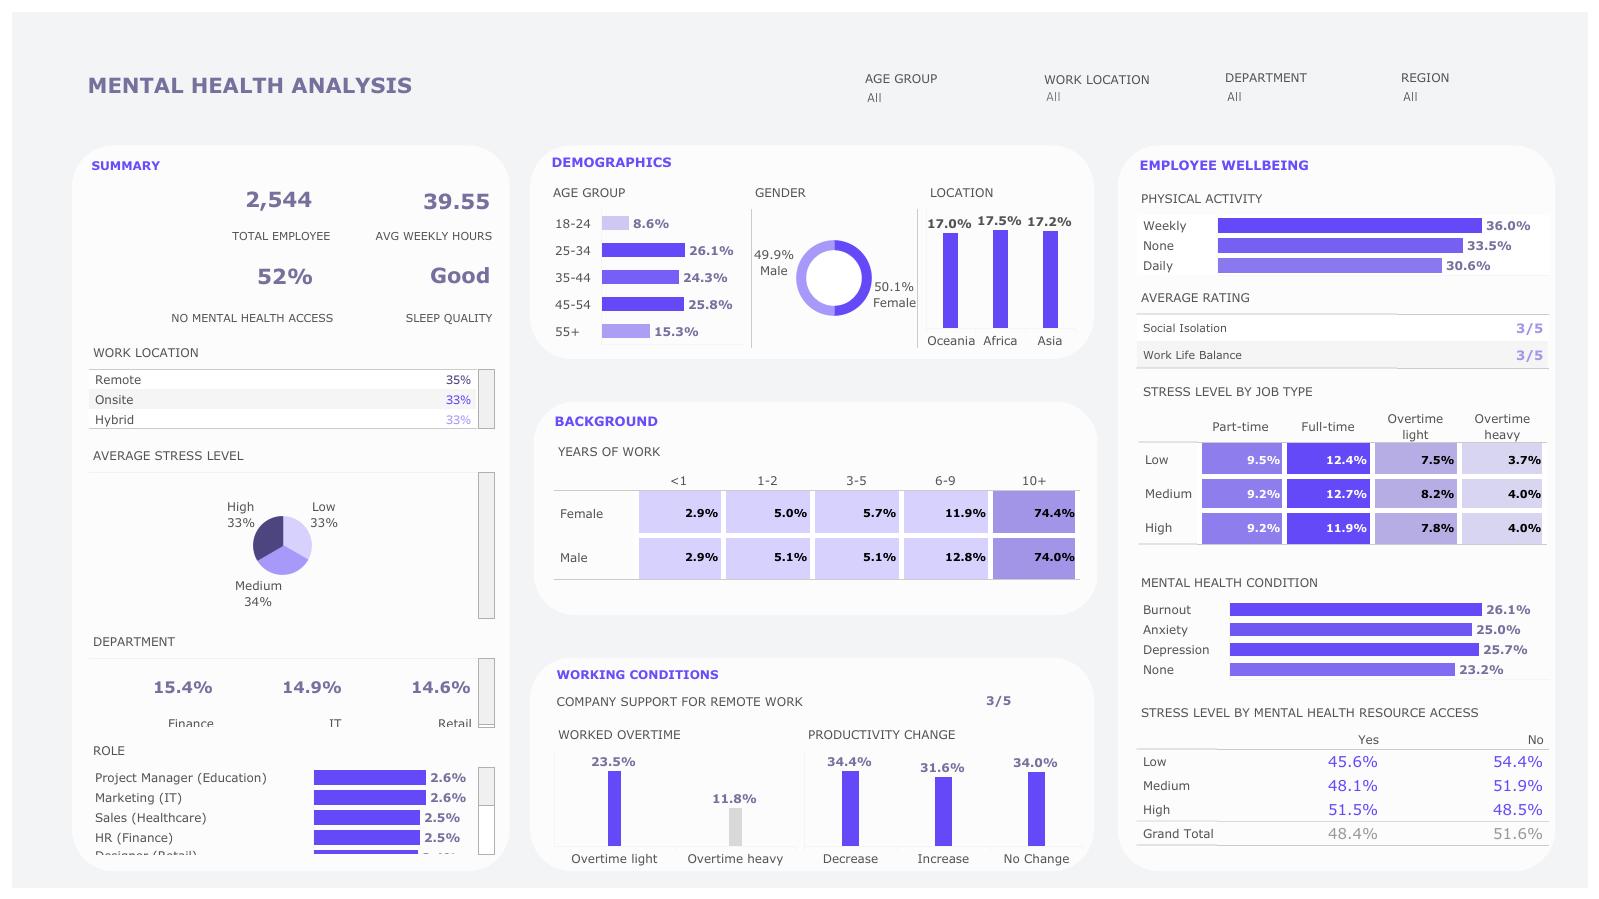

This screenshot's page, from the dashboard's own definition file:
{"tool":"tableau","page":{"name":"Dashboard","canvas":[1600,900],"ordinal":0},"visuals":[{"type":"image","param":"Image/BACK2.png","box":[8,8,1584,884]},{"type":"filter","title":"DEPARTMENT","param":"[federated.0maekqe0reld2u16mzw711kn9f0x].[none:Industry:nk]","box":[1225,68,160,44]},{"type":"filter","title":"LOCATION","param":"[federated.0maekqe0reld2u16mzw711kn9f0x].[none:Region:nk]","box":[1401,68,157,44]},{"type":"text","box":[85,69,330,30]},{"type":"filter","title":"AGE GROUP","param":"[federated.0maekqe0reld2u16mzw711kn9f0x].[none:Calculation_466967025510387713:nk","box":[865,69,160,44]},{"type":"filter","title":"WORK LOCATION","param":"[federated.0maekqe0reld2u16mzw711kn9f0x].[none:Work_Location:nk]","box":[1044,70,160,42]},{"type":"text","box":[1133,148,420,32]},{"type":"text","box":[85,149,414,32]},{"type":"text","box":[545,149,534,24]},{"type":"worksheet","title":"AGE GROUP","mark":"Automatic","rows":["Calculation_466967025510387713"],"cols":["Employee_ID"],"box":[545,173,202,173]},{"type":"worksheet","title":"GENDER","mark":"Pie","rows":["Calculation_466967025522483202","Calculation_466967025522483202"],"box":[747,173,175,177]},{"type":"worksheet","title":"LOCATION","mark":"Automatic","rows":["Employee_ID"],"cols":["Region"],"box":[922,173,157,177]},{"type":"worksheet","title":"PHYSICAL ACTIVITY","mark":"Automatic","rows":["Physical_Activity"],"cols":["Employee_ID"],"box":[1133,180,420,98]},{"type":"worksheet","title":"TOTAL EMPLOYEE","mark":"Automatic","box":[85,181,236,39]},{"type":"worksheet","title":"AVG HOURS PER WEEK","mark":"Automatic","box":[321,181,178,39]},{"type":"text","box":[85,220,252,30]},{"type":"text","box":[337,220,162,30]},{"type":"worksheet","title":"ACCESS TO MENTAL HEALTH RESOURCES","mark":"Automatic","box":[85,250,237,52]},{"type":"worksheet","title":"SLEEP QUALITY","mark":"Automatic","box":[322,250,177,52]},{"type":"worksheet","title":"AVERAGE RATING","mark":"Automatic","box":[1133,278,420,94]},{"type":"text","box":[85,302,255,30]},{"type":"text","box":[340,302,159,30]},{"type":"worksheet","title":"WORK LOCATION","mark":"Automatic","rows":["Work_Location"],"box":[85,334,414,99]},{"type":"worksheet","title":"STRESS LEVEL BY JOB TYPE","mark":"Square","rows":["Stress_Level"],"cols":["Calculation_259027386856960000"],"box":[1133,372,420,191]},{"type":"text","box":[548,408,538,24]},{"type":"worksheet","title":"YEARS OF WORK","mark":"Square","rows":["Gender"],"cols":["Calculation_941956048748462080"],"box":[548,432,538,153]},{"type":"worksheet","title":"AVG STRESS LEVEL","mark":"Pie","box":[85,437,414,186]},{"type":"worksheet","title":"MENTAL HEALTH CONDITION","mark":"Automatic","rows":["Mental_Health_Condition"],"cols":["Employee_ID"],"box":[1133,563,420,130]},{"type":"worksheet","title":"DEPARTMENT","mark":"Automatic","cols":["Industry"],"box":[85,623,414,109]},{"type":"text","box":[550,662,537,23]},{"type":"text","box":[550,685,361,30]},{"type":"worksheet","title":"COMPANY SUPPORT FOR REMOTE WORK","mark":"Automatic","box":[911,685,176,30]},{"type":"worksheet","title":"STRESS LEVEL BY MENTAL HEALTH RESOURCE ACCESS (2)","mark":"Automatic","rows":["Stress_Level"],"cols":["Access_to_Mental_Health_Resources"],"box":[1133,693,420,155]},{"type":"worksheet","title":"WORKED OVERTIME","mark":"Automatic","cols":["Calculation_259027386856960000"],"box":[550,715,250,155]},{"type":"worksheet","title":"PRODUCTIVITY CHANGE","mark":"Automatic","cols":["Productivity_Change"],"box":[800,715,287,155]},{"type":"worksheet","title":"ROLE","mark":"Automatic","rows":["Calculation_446278615130664961"],"cols":["Employee_ID"],"box":[85,732,414,126]}]}

Visuals, with their boxes in screenshot pixels (x1, y1, x2, y2), scaled from the page's 1600x900 canvas onto the 1599x899 screenshot:
image: (left=8, top=8, right=1591, bottom=891)
"DEPARTMENT" filter: (left=1224, top=68, right=1384, bottom=112)
"LOCATION" filter: (left=1400, top=68, right=1557, bottom=112)
text: (left=85, top=69, right=415, bottom=99)
"AGE GROUP" filter: (left=864, top=69, right=1024, bottom=113)
"WORK LOCATION" filter: (left=1043, top=70, right=1203, bottom=112)
text: (left=1132, top=148, right=1552, bottom=180)
text: (left=85, top=149, right=499, bottom=181)
text: (left=545, top=149, right=1078, bottom=173)
"AGE GROUP" worksheet: (left=545, top=173, right=747, bottom=346)
"GENDER" worksheet (Pie marks): (left=747, top=173, right=921, bottom=350)
"LOCATION" worksheet: (left=921, top=173, right=1078, bottom=350)
"PHYSICAL ACTIVITY" worksheet: (left=1132, top=180, right=1552, bottom=278)
"TOTAL EMPLOYEE" worksheet: (left=85, top=181, right=321, bottom=220)
"AVG HOURS PER WEEK" worksheet: (left=321, top=181, right=499, bottom=220)
text: (left=85, top=220, right=337, bottom=250)
text: (left=337, top=220, right=499, bottom=250)
"ACCESS TO MENTAL HEALTH RESOURCES" worksheet: (left=85, top=250, right=322, bottom=302)
"SLEEP QUALITY" worksheet: (left=322, top=250, right=499, bottom=302)
"AVERAGE RATING" worksheet: (left=1132, top=278, right=1552, bottom=372)
text: (left=85, top=302, right=340, bottom=332)
text: (left=340, top=302, right=499, bottom=332)
"WORK LOCATION" worksheet: (left=85, top=334, right=499, bottom=433)
"STRESS LEVEL BY JOB TYPE" worksheet (Square marks): (left=1132, top=372, right=1552, bottom=562)
text: (left=548, top=408, right=1085, bottom=432)
"YEARS OF WORK" worksheet (Square marks): (left=548, top=432, right=1085, bottom=584)
"AVG STRESS LEVEL" worksheet (Pie marks): (left=85, top=437, right=499, bottom=622)
"MENTAL HEALTH CONDITION" worksheet: (left=1132, top=562, right=1552, bottom=692)
"DEPARTMENT" worksheet: (left=85, top=622, right=499, bottom=731)
text: (left=550, top=661, right=1086, bottom=684)
text: (left=550, top=684, right=910, bottom=714)
"COMPANY SUPPORT FOR REMOTE WORK" worksheet: (left=910, top=684, right=1086, bottom=714)
"STRESS LEVEL BY MENTAL HEALTH RESOURCE ACCESS (2)" worksheet: (left=1132, top=692, right=1552, bottom=847)
"WORKED OVERTIME" worksheet: (left=550, top=714, right=800, bottom=869)
"PRODUCTIVITY CHANGE" worksheet: (left=800, top=714, right=1086, bottom=869)
"ROLE" worksheet: (left=85, top=731, right=499, bottom=857)
